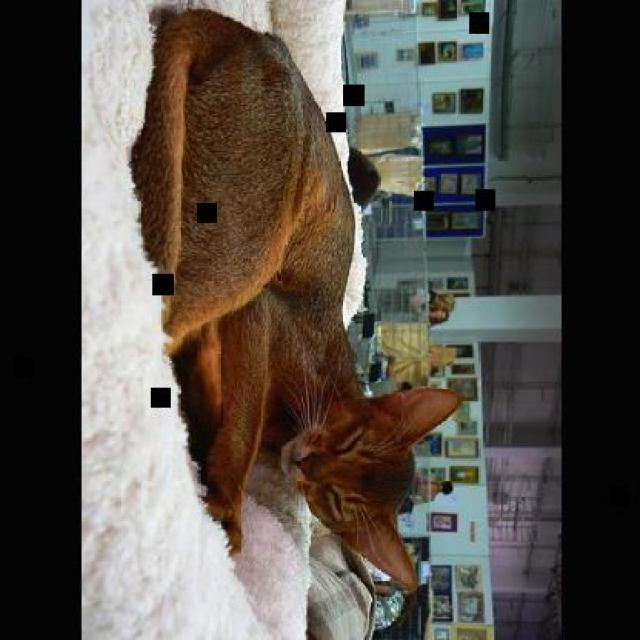unauthorized: (128, 6, 460, 592)
